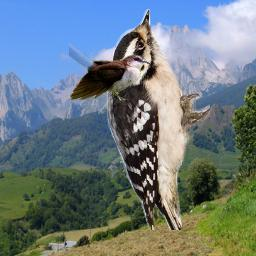Cuckoo: (69, 23, 151, 104)
Woodpecker: (107, 9, 210, 230)
